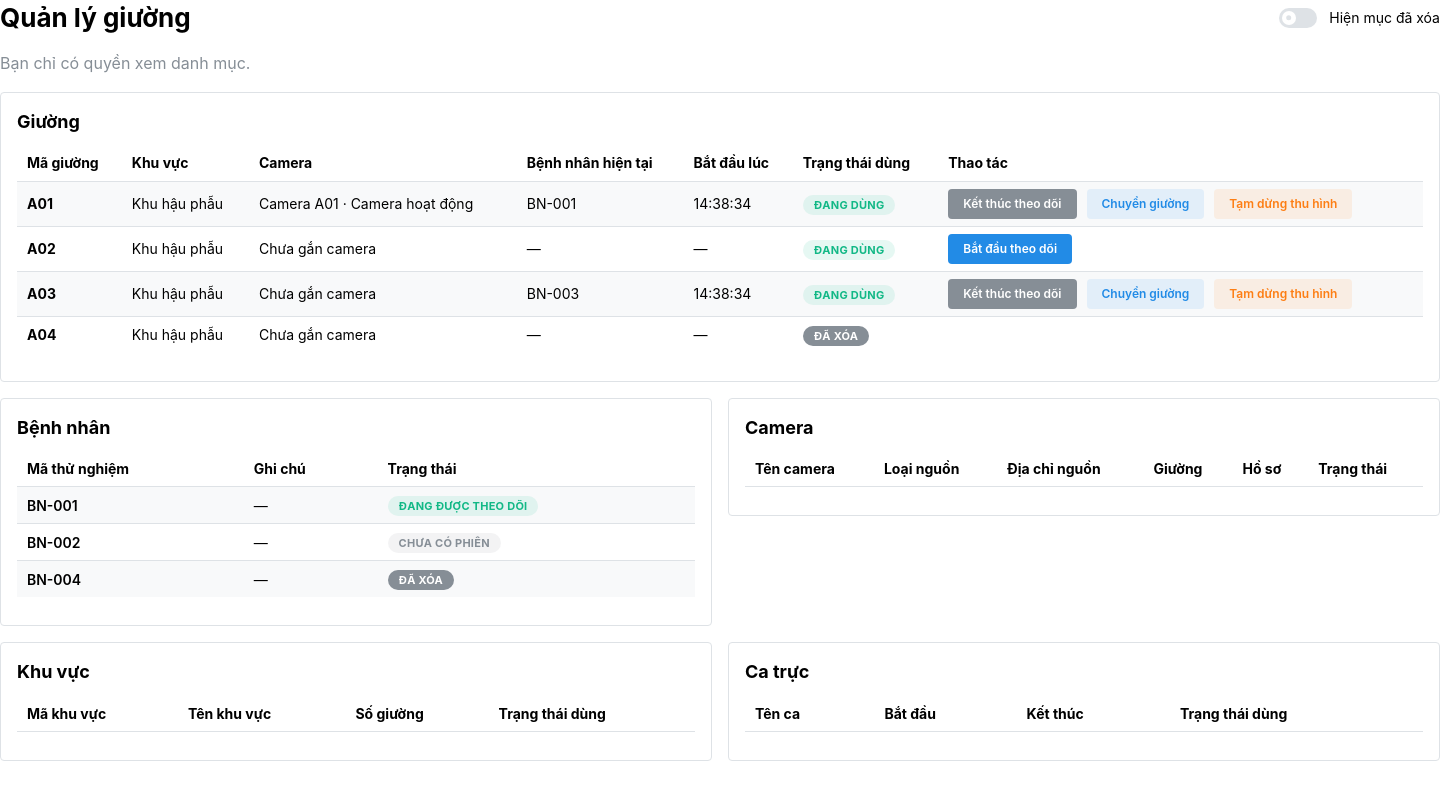
it: TransferSessionDialog › TransferSessionDialog transfers patient
Later steps or results of the test are not shown.
Click the button "Chuyển giường" in the row of "Camera A01 · Camera hoạt động" at (1145, 204), box [1086, 189, 1204, 219]
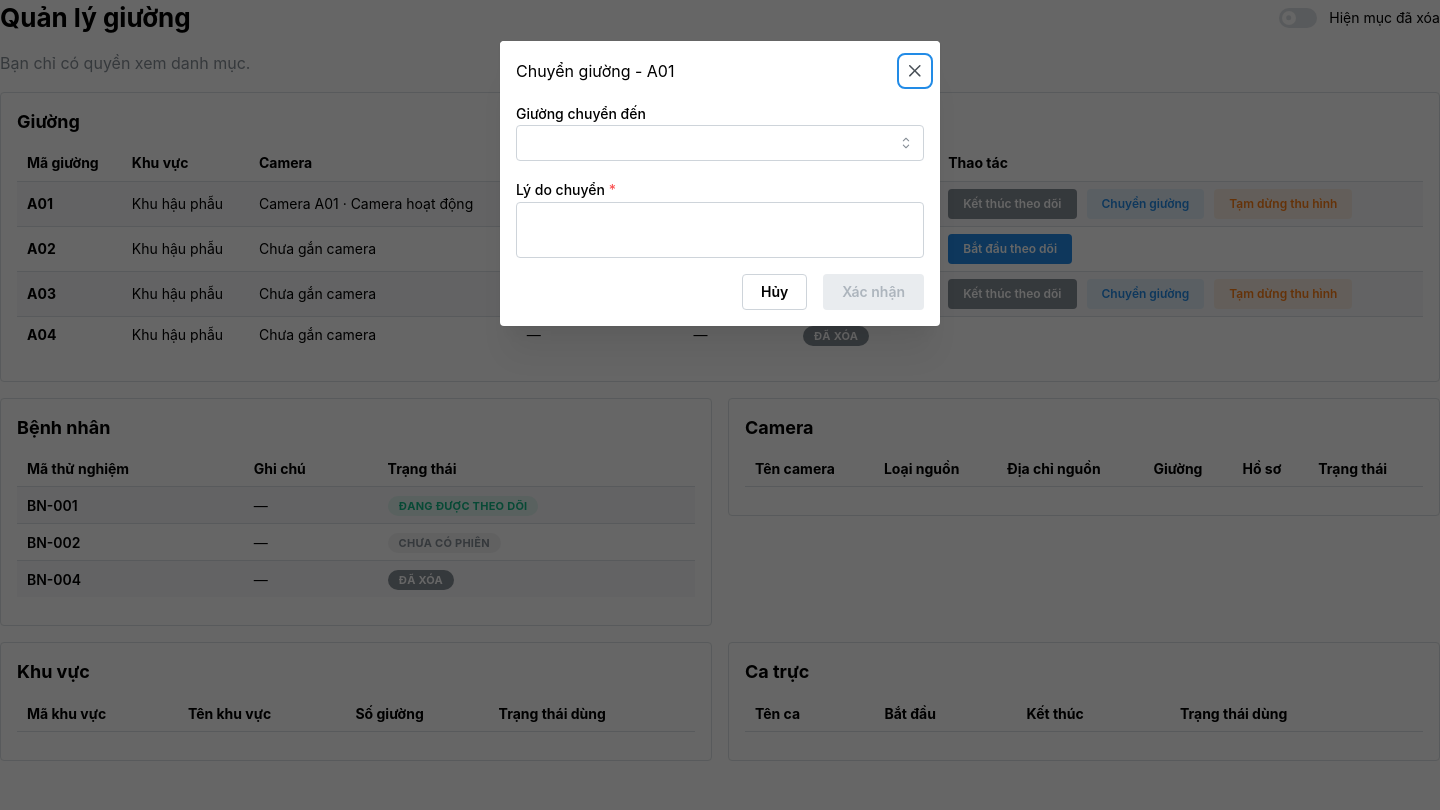
Result: the button "Xác nhận" is disabled at [823, 274, 924, 310]
Click the field labelled "Giường chuyển đến" at (720, 143), box [516, 125, 924, 161]
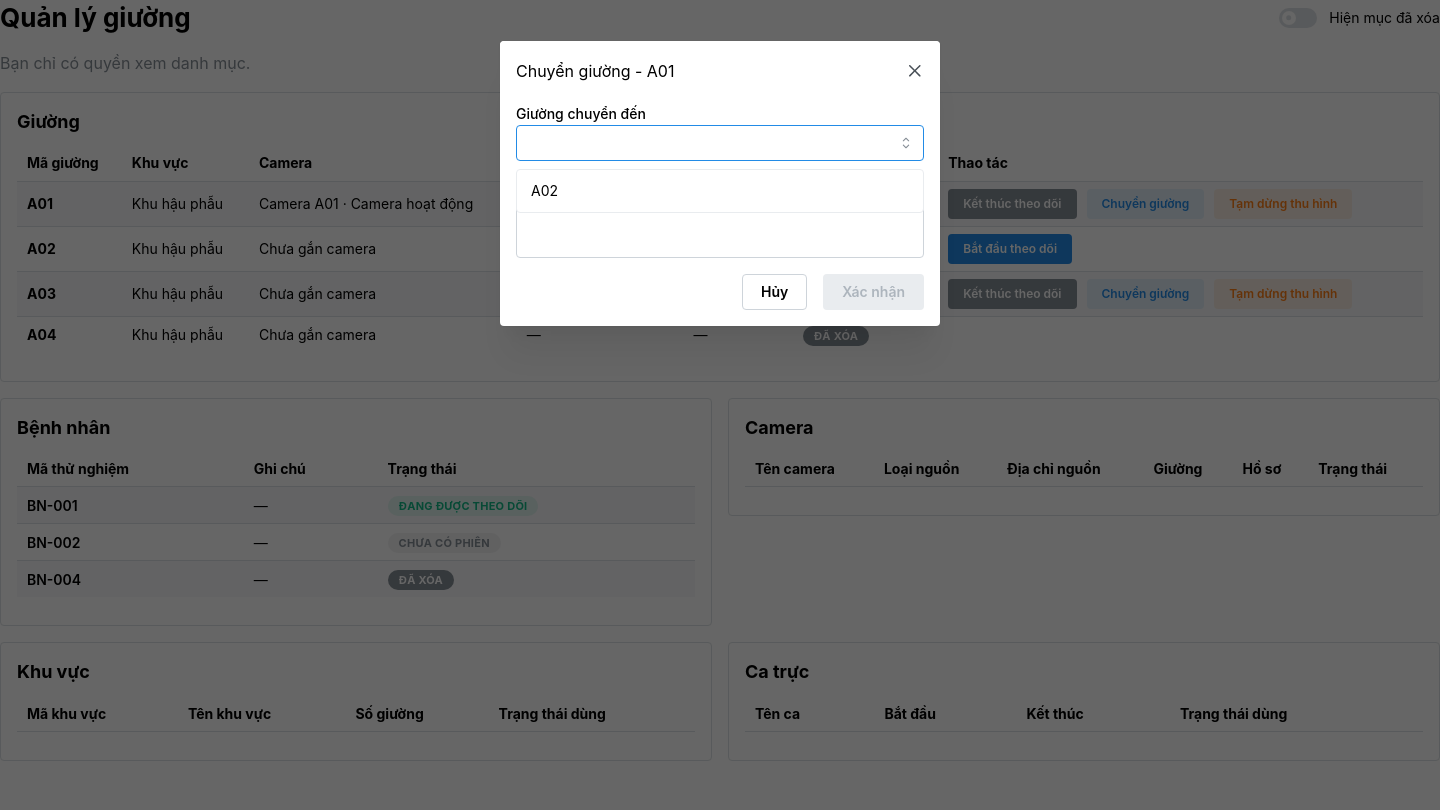
Click the option "A02" at (544, 191), box [531, 182, 558, 199]
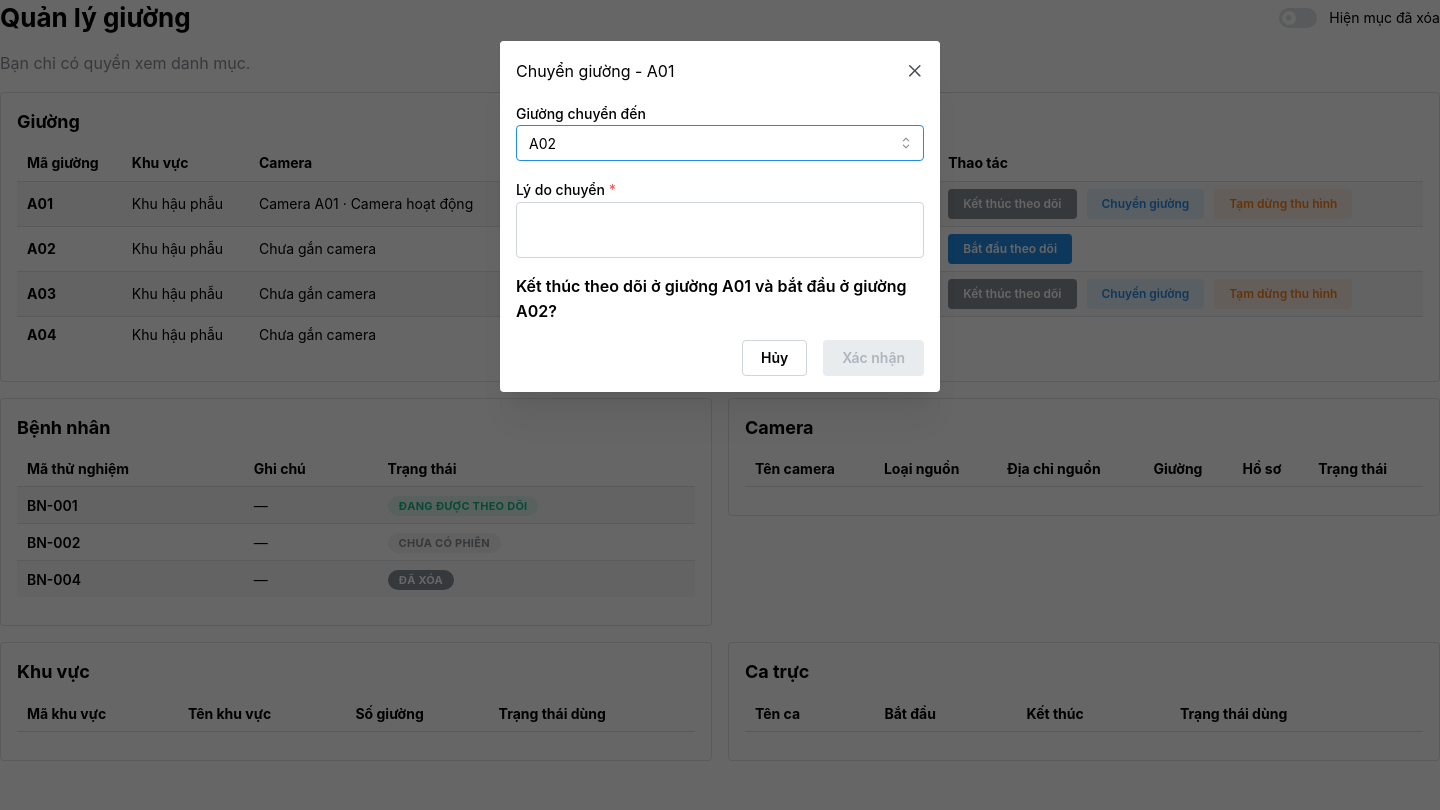
Result: the button "Xác nhận" is disabled at [823, 340, 924, 376]
Result: the text "Kết thúc theo dõi ở giường A01 và bắt đầu ở giường A02?" is shown at [516, 274, 924, 324]
